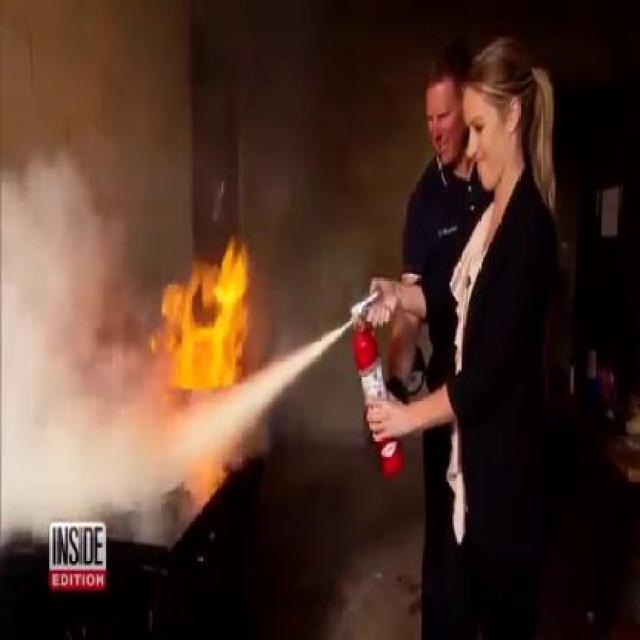fire: (175, 242, 263, 384)
smoke: (3, 218, 88, 484)
